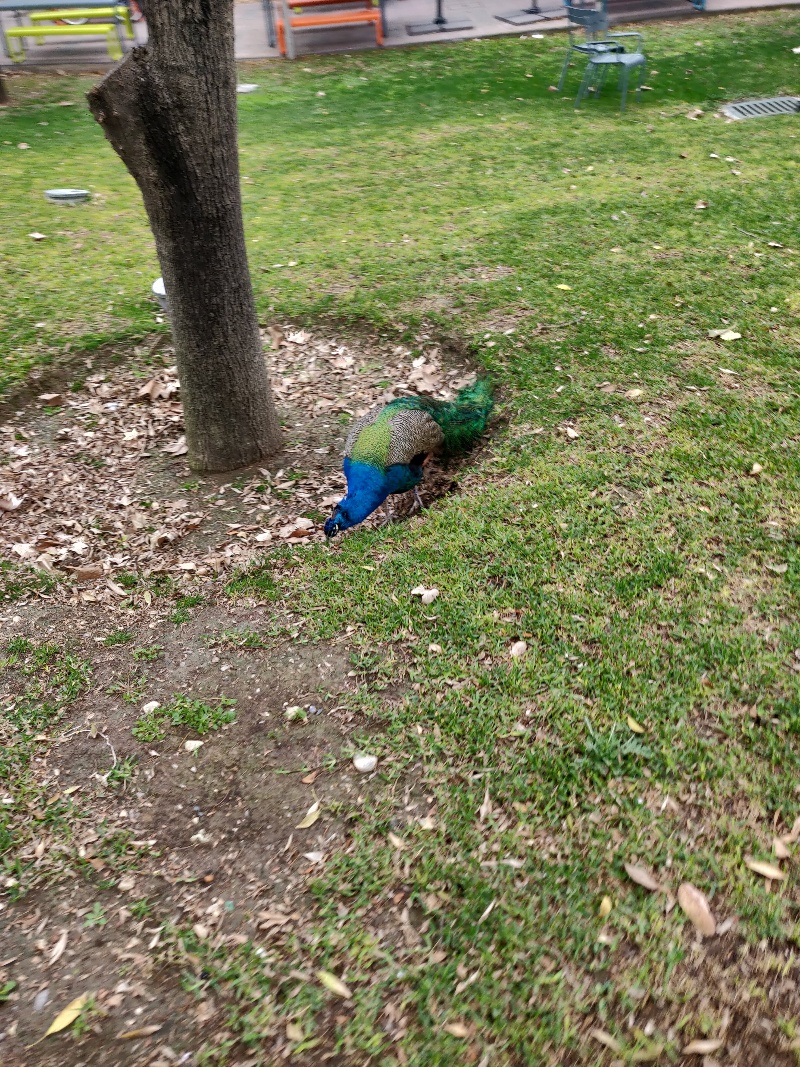pavoreal: (320, 395, 477, 536)
